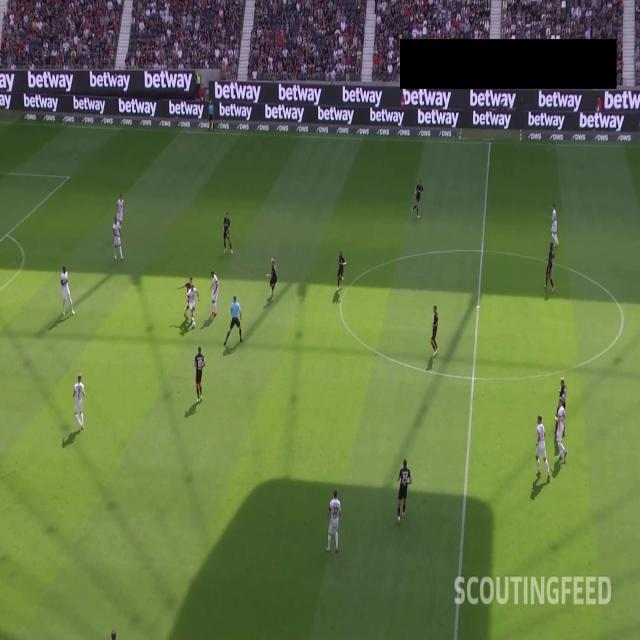ball: (190, 320, 197, 330)
player: (534, 413, 552, 482), (396, 457, 412, 524), (326, 488, 341, 556), (177, 274, 197, 322), (554, 398, 568, 464), (72, 372, 87, 433), (60, 267, 74, 318), (543, 240, 556, 294), (194, 346, 205, 405), (266, 255, 279, 302), (558, 376, 568, 437), (209, 269, 220, 319), (411, 178, 424, 220), (186, 284, 198, 327), (549, 204, 561, 246), (430, 303, 439, 359), (334, 250, 346, 292), (222, 212, 233, 255), (113, 218, 122, 264), (116, 192, 124, 233)
